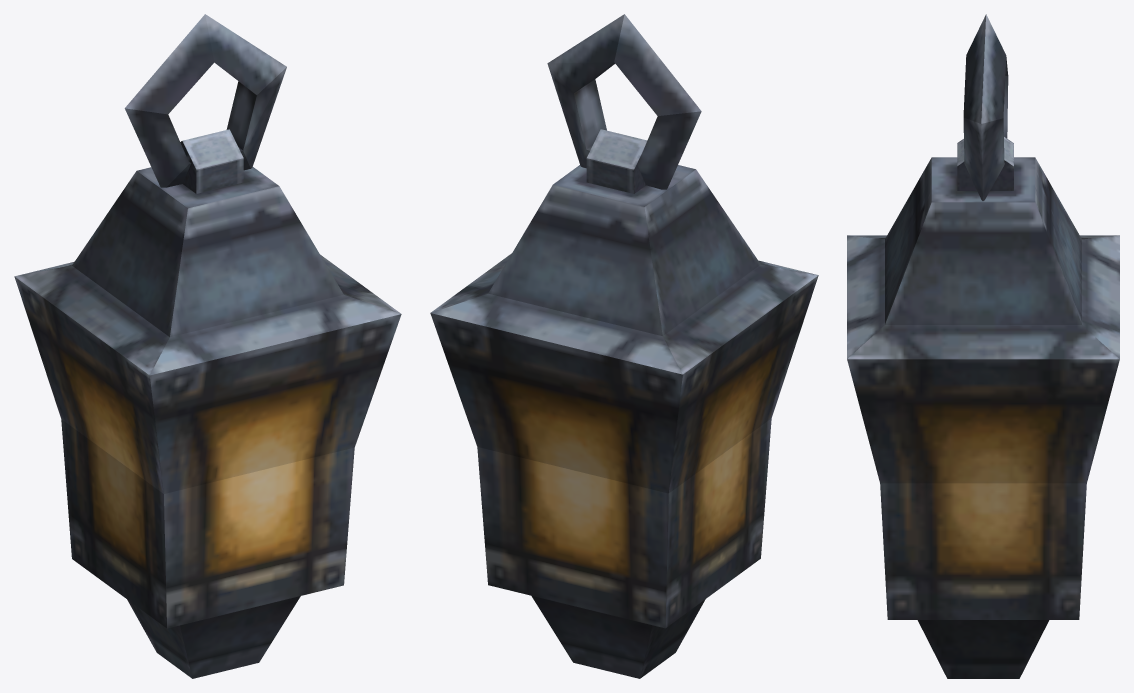
The model's file is mine_lantern01.fbx.
3 views of the same model, side by side, from view 1: azimuth 30°, elevation 25°; view 2: azimuth 150°, elevation 25°; view 3: azimuth 270°, elevation 25° (orthographic).
Parts seen in each view (by area): view 1: obj0.062; view 2: obj0.062; view 3: obj0.062.
Part boxes in pixels (left/top/right/bottom): obj0.062: left=14, top=14, right=401, bottom=678; obj0.062: left=430, top=14, right=818, bottom=678; obj0.062: left=847, top=14, right=1119, bottom=678.
Bounding box in the file's own units: 0.4864 × 1.19 × 0.453.
